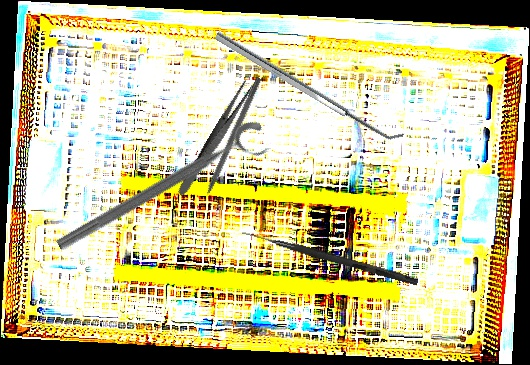Dressing Forceps: (175, 78, 256, 199)
Fixation Ring: (52, 116, 275, 268)
Hook Surgical: (240, 229, 420, 286), (196, 76, 263, 210)
Spatula Surgical: (214, 24, 405, 148)
